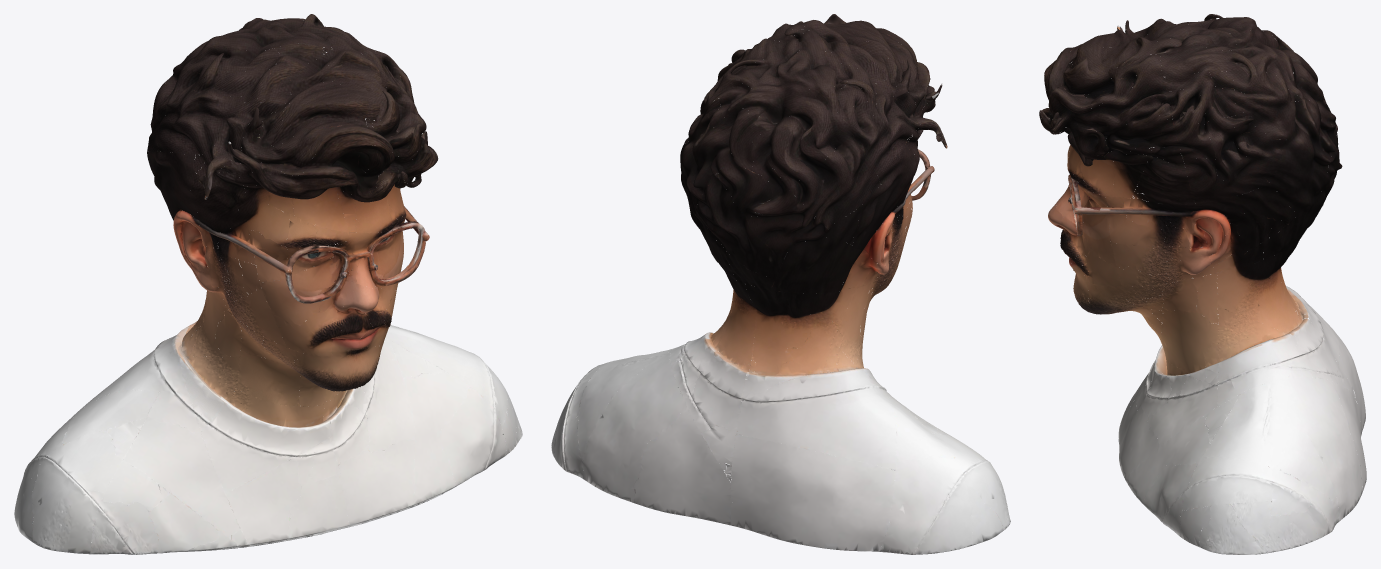
File: shan3D-fractured.glb
The picture shows the model from 3 angles, left to right: view 1: azimuth 30°, elevation 25°; view 2: azimuth 150°, elevation 25°; view 3: azimuth 270°, elevation 25°; orthographic projection. The views are drawn at different scales.
Parts seen in each view (by area): view 1: tmpi06oy366obj.1134, tmpi06oy366obj.1144, tmpi06oy366obj.800, tmpi06oy366obj.788, tmpi06oy366obj.1141, tmpi06oy366obj.1132, tmpi06oy366obj.1128, tmpi06oy366obj.1022, tmpi06oy366obj.1102, tmpi06oy366obj.1130, tmpi06oy366obj.935, tmpi06oy366obj.1140 (+60 smaller); view 2: tmpi06oy366obj.1131, tmpi06oy366obj.1139, tmpi06oy366obj.1113, tmpi06oy366obj.1138, tmpi06oy366obj.1123, tmpi06oy366obj.1020, tmpi06oy366obj.1045, tmpi06oy366obj.1120, tmpi06oy366obj.1082, tmpi06oy366obj.1094, tmpi06oy366obj.1117, tmpi06oy366obj.1022 (+37 smaller); view 3: tmpi06oy366obj.1092, tmpi06oy366obj.1113, tmpi06oy366obj.1099, tmpi06oy366obj.1046, tmpi06oy366obj.1105, tmpi06oy366obj.1110, tmpi06oy366obj.1101, tmpi06oy366obj.800, tmpi06oy366obj.1102, tmpi06oy366obj.1126, tmpi06oy366obj.1128, tmpi06oy366obj.868 (+74 smaller).
Boxes of the visible parts, x1,y1,x2,y2 form: tmpi06oy366obj.1134: (201,388,331,493); tmpi06oy366obj.1144: (123,416,240,539); tmpi06oy366obj.800: (403,371,469,508); tmpi06oy366obj.788: (338,439,415,527); tmpi06oy366obj.1141: (31,458,104,554); tmpi06oy366obj.1132: (225,459,301,546); tmpi06oy366obj.1128: (439,387,506,486); tmpi06oy366obj.1022: (157,91,244,155); tmpi06oy366obj.1102: (361,356,414,452); tmpi06oy366obj.1130: (286,454,348,540); tmpi06oy366obj.935: (283,80,366,140); tmpi06oy366obj.1140: (91,500,158,554); tmpi06oy366obj.1131: (730,434,896,551); tmpi06oy366obj.1139: (736,369,897,470); tmpi06oy366obj.1113: (582,351,689,501); tmpi06oy366obj.1138: (879,455,972,554); tmpi06oy366obj.1123: (631,411,732,525); tmpi06oy366obj.1020: (752,93,852,188); tmpi06oy366obj.1045: (790,135,880,229); tmpi06oy366obj.1120: (745,283,819,375); tmpi06oy366obj.1082: (695,173,783,280); tmpi06oy366obj.1094: (770,233,861,293); tmpi06oy366obj.1117: (683,360,750,432); tmpi06oy366obj.1022: (857,81,912,184); tmpi06oy366obj.1092: (1202,384,1338,505); tmpi06oy366obj.1113: (1265,376,1362,520); tmpi06oy366obj.1099: (1217,307,1297,406); tmpi06oy366obj.1046: (1269,99,1335,215); tmpi06oy366obj.1105: (1216,240,1300,337); tmpi06oy366obj.1110: (1182,456,1272,510); tmpi06oy366obj.1101: (1161,308,1218,372); tmpi06oy366obj.800: (1125,416,1210,503); tmpi06oy366obj.1102: (1147,377,1218,447); tmpi06oy366obj.1126: (1199,504,1267,554); tmpi06oy366obj.1128: (1143,463,1197,536); tmpi06oy366obj.868: (1207,120,1270,194).
Size of the model in its own units: 0.9999 by 0.9247 by 0.6496.
Materials: 1 (1 with a texture image).
